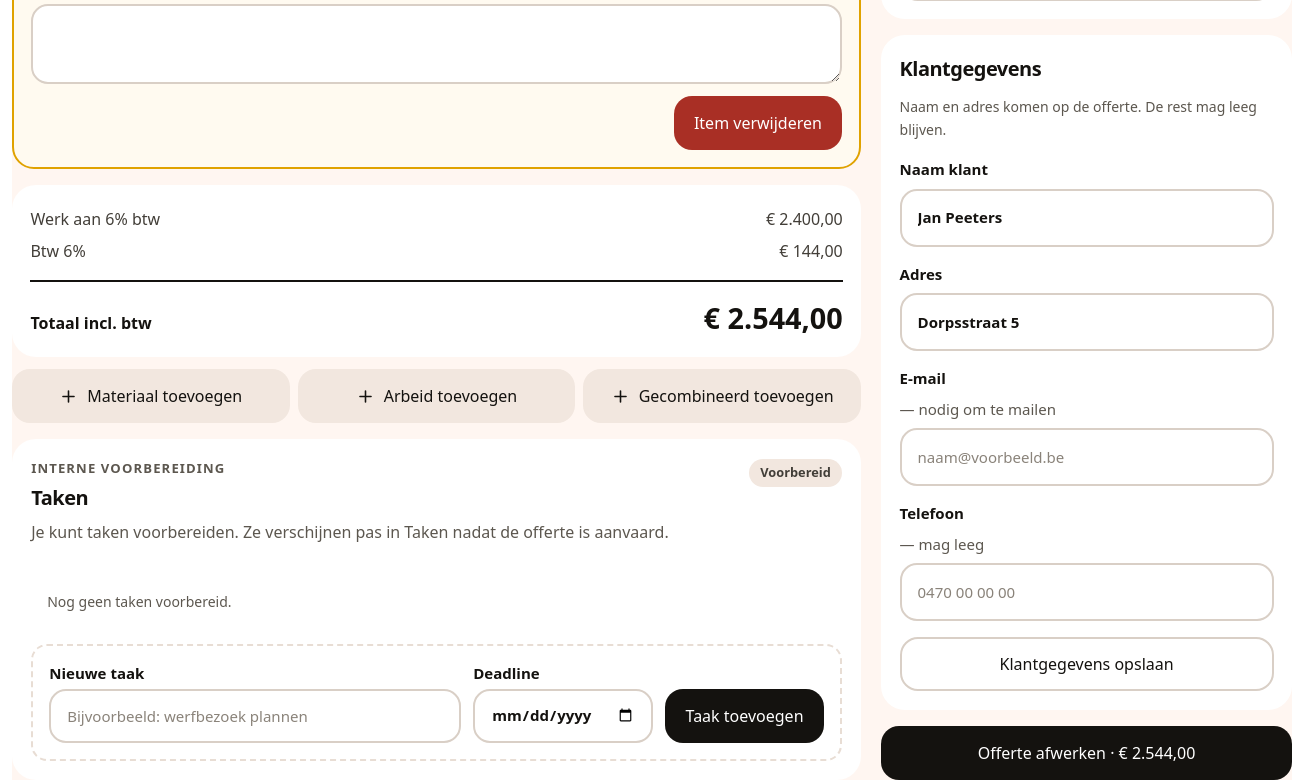
Scenario: QuoteEditor › shows a save-failure alert when adding a line item fails to persist
(page scrolled)
Click the button "Materiaal toevoegen": point(151, 396) x1=12 y1=370 x2=290 y2=424
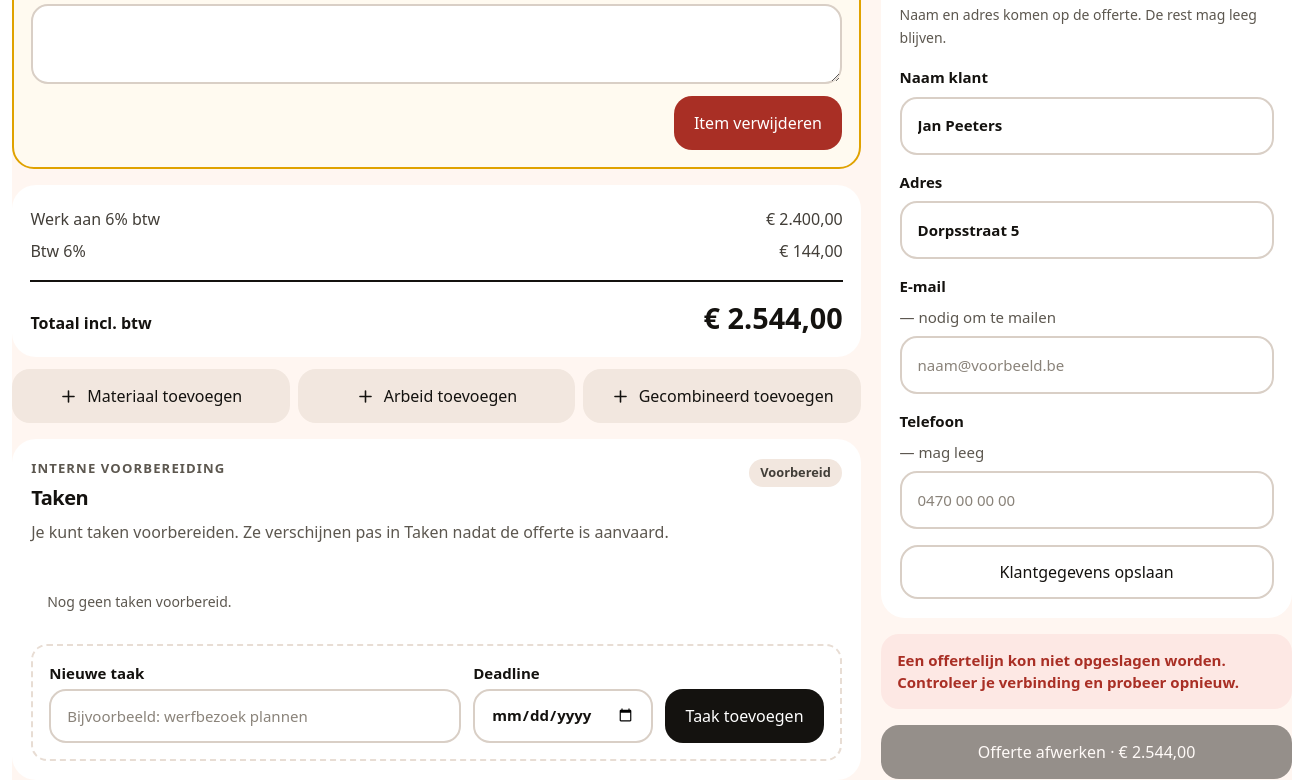
Result: the text "kon niet opgeslagen worden" is shown at x1=897 y1=650 x2=1239 y2=692
